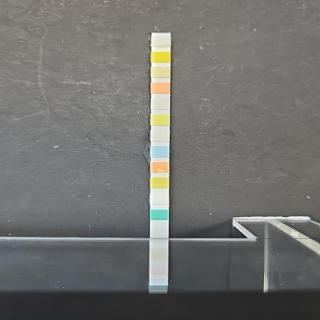mark: (152, 66, 169, 80), (150, 192, 168, 205), (151, 176, 169, 188), (151, 146, 169, 158), (152, 35, 170, 47), (151, 130, 168, 142), (152, 82, 169, 94), (150, 115, 168, 126), (152, 52, 170, 63), (152, 209, 168, 221), (152, 162, 168, 174), (152, 98, 168, 110)
